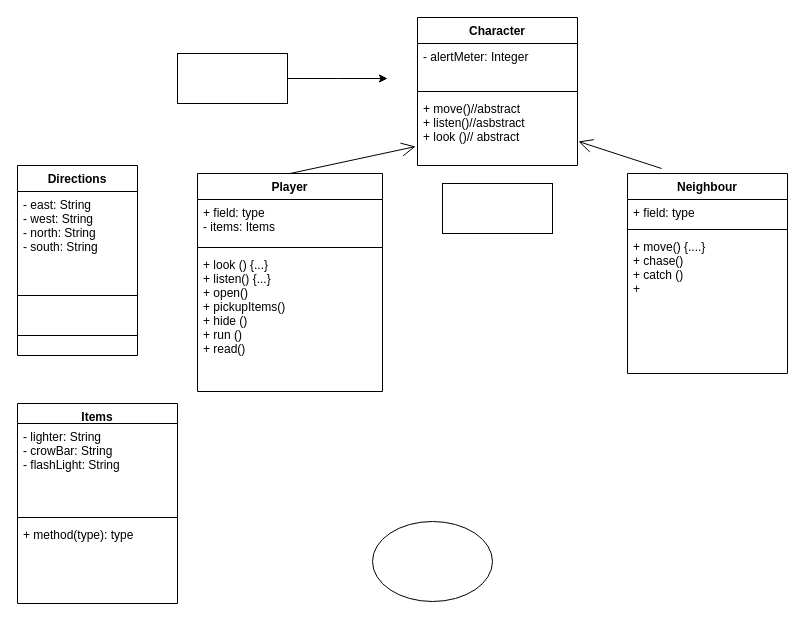
Some shapes in this 805 by 624 pixel diagram are drawn without their labels. The shapes that lost their labels are listed below. From the top down, each one's centre as x and y in pixels, then its label:
(232,78): main()
(497,208): IS -A
